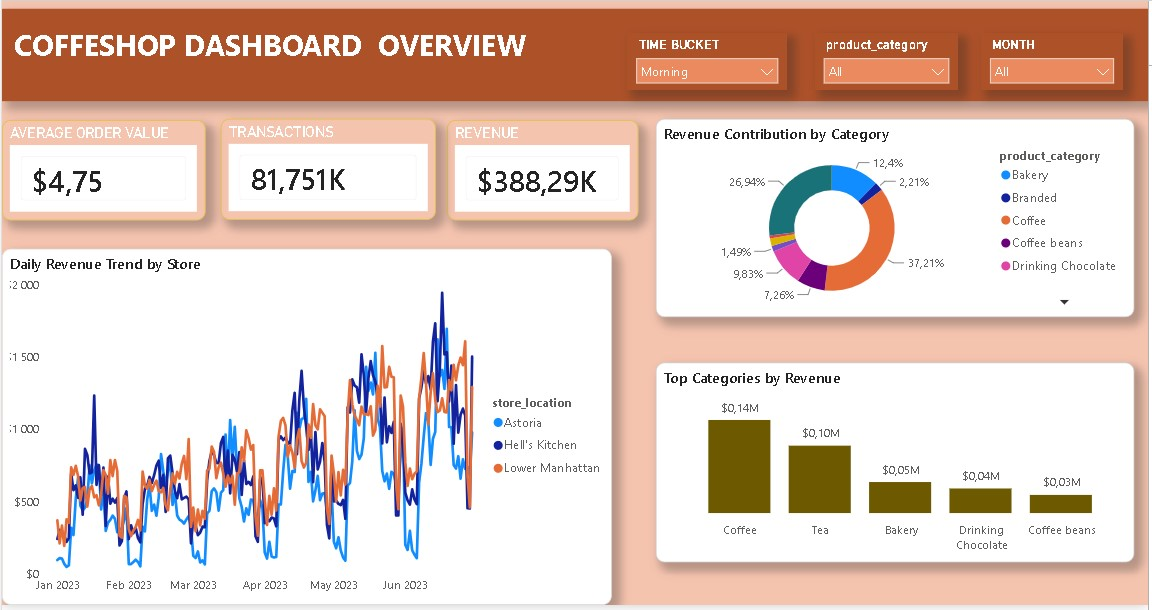

This screenshot's page, from the dashboard's own definition file:
{"tool":"powerbi","page":{"name":"Page 1","canvas":[1280,720],"ordinal":0},"visuals":[{"type":"shape","box":[0,54.4,1280,103.3],"z":0},{"type":"cardVisual","title":"REVENUE","fields":{"Data":["bright_coffe_shop (3).Total Revenue"]},"box":[496.9,178.7,213.6,111.7],"z":1000},{"type":"cardVisual","title":"  TRANSACTIONS","fields":{"Data":["CountNonNull(bright_coffe_shop (3).transaction_id)"]},"box":[244.3,177.3,240.1,113.1],"z":2000},{"type":"slicer","fields":{"Values":["bright_coffe_shop (3).Month_name"]},"box":[1093,81,159.1,64.2],"z":3000},{"type":"slicer","fields":{"Values":["bright_coffe_shop (3).product_category"]},"box":[907.3,81,160.5,64.2],"z":4000},{"type":"slicer","fields":{"Values":["bright_coffe_shop (3).store_location"]},"box":[1093.3,521.7,131.1,61.3],"z":5000},{"type":"lineChart","title":"Daily Revenue Trend by Store","fields":{"Y":["bright_coffe_shop (3).Total Revenue"],"Category":["bright_coffe_shop (3).transaction_date.Variation.Date Hierarchy.Year","bright_coffe_shop (3).transaction_date.Variation.Date Hierarchy.Quarter","bright_coffe_shop (3).transaction_date.Variation.Date Hierarchy.Month","bright_coffe_shop (3).transaction_date.Variation.Date Hierarchy.Day"],"Series":["bright_coffe_shop (3).store_location"]},"box":[0,322.4,681.2,397.8],"z":6000},{"type":"donutChart","title":"Revenue Contribution by Category","fields":{"Y":["bright_coffe_shop (3).Total Revenue"],"Series":["bright_coffe_shop (3).product_category"]},"box":[730,177.3,534.6,221.9],"z":7000},{"type":"slicer","fields":{"Values":["bright_coffe_shop (3).time_buckets"]},"box":[697.9,81,178.7,64.2],"z":8000},{"type":"cardVisual","title":"AVERAGE ORDER VALUE","fields":{"Data":["bright_coffe_shop (3).Average Order Value","bright_coffe_shop (3).Average Order Value"]},"box":[0,178.7,227.5,111.7],"z":9000},{"type":"clusteredColumnChart","title":"Top Categories by Revenue","fields":{"Y":["bright_coffe_shop (3).Total Revenue"],"Category":["bright_coffe_shop (3).product_category"]},"box":[730,449.5,534.6,223.3],"z":10000},{"type":"textbox","box":[0,68.6,604.4,54.4],"z":12501}]}

Visuals, with their boxes on the page's 1280x720 design canvas (x1, y1, x2, y2). These are canvas units, not pixel positions in the 1152x610 screenshot, which may show the page scaled, cropped or inside an application window:
shape: bbox(0, 54, 1280, 158)
"REVENUE" cardVisual: bbox(497, 179, 710, 290)
"  TRANSACTIONS" cardVisual: bbox(244, 177, 484, 290)
slicer - bright_coffe_shop (3).Month_name: bbox(1093, 81, 1252, 145)
slicer - bright_coffe_shop (3).product_category: bbox(907, 81, 1068, 145)
slicer - bright_coffe_shop (3).store_location: bbox(1093, 522, 1224, 583)
"Daily Revenue Trend by Store" lineChart: bbox(0, 322, 681, 720)
"Revenue Contribution by Category" donutChart: bbox(730, 177, 1265, 399)
slicer - bright_coffe_shop (3).time_buckets: bbox(698, 81, 877, 145)
"AVERAGE ORDER VALUE" cardVisual: bbox(0, 179, 228, 290)
"Top Categories by Revenue" clusteredColumnChart: bbox(730, 450, 1265, 673)
textbox: bbox(0, 69, 604, 123)
